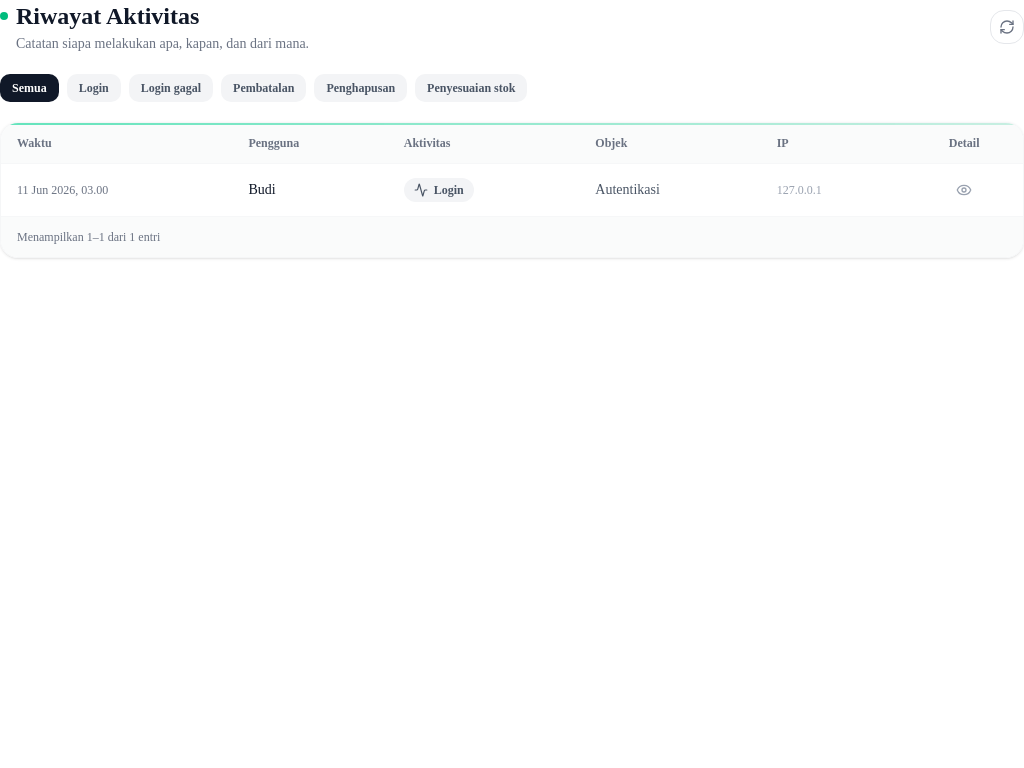
it: AuditLogView (mengubah URL searchParams) › klik detail membuka dialog dengan rincian
Click the button titled "Lihat detail". click: (964, 190)
box: [950,176,978,204]
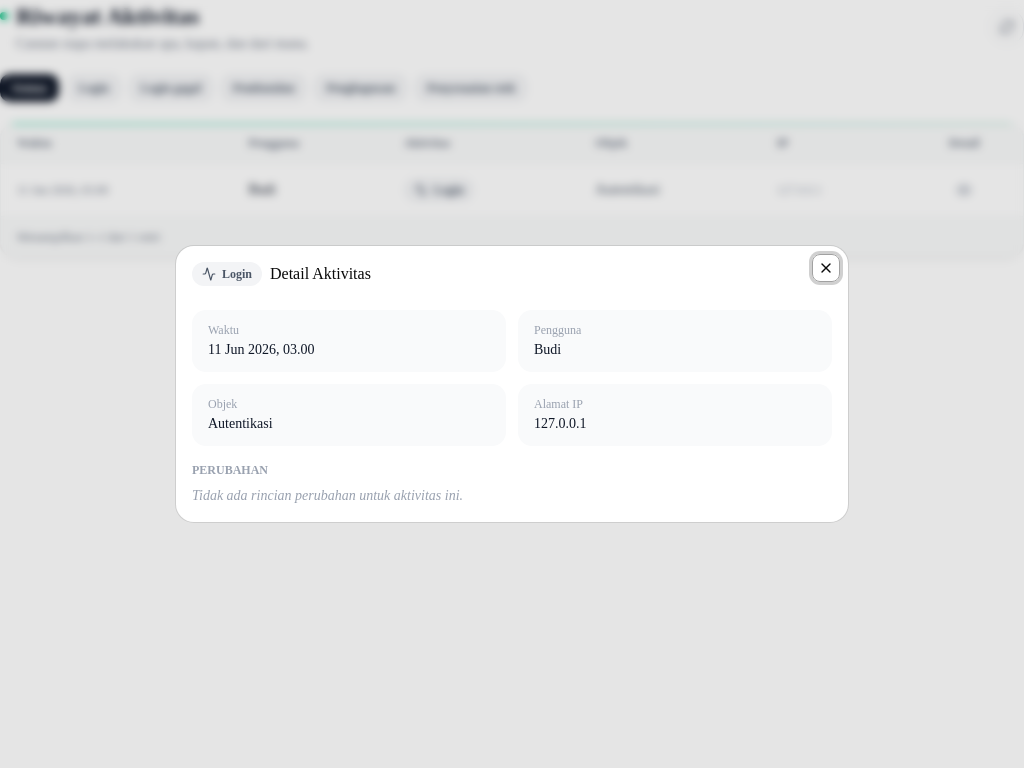
Expected: the heading "Login Detail Aktivitas" is shown, [192,262,371,286]
